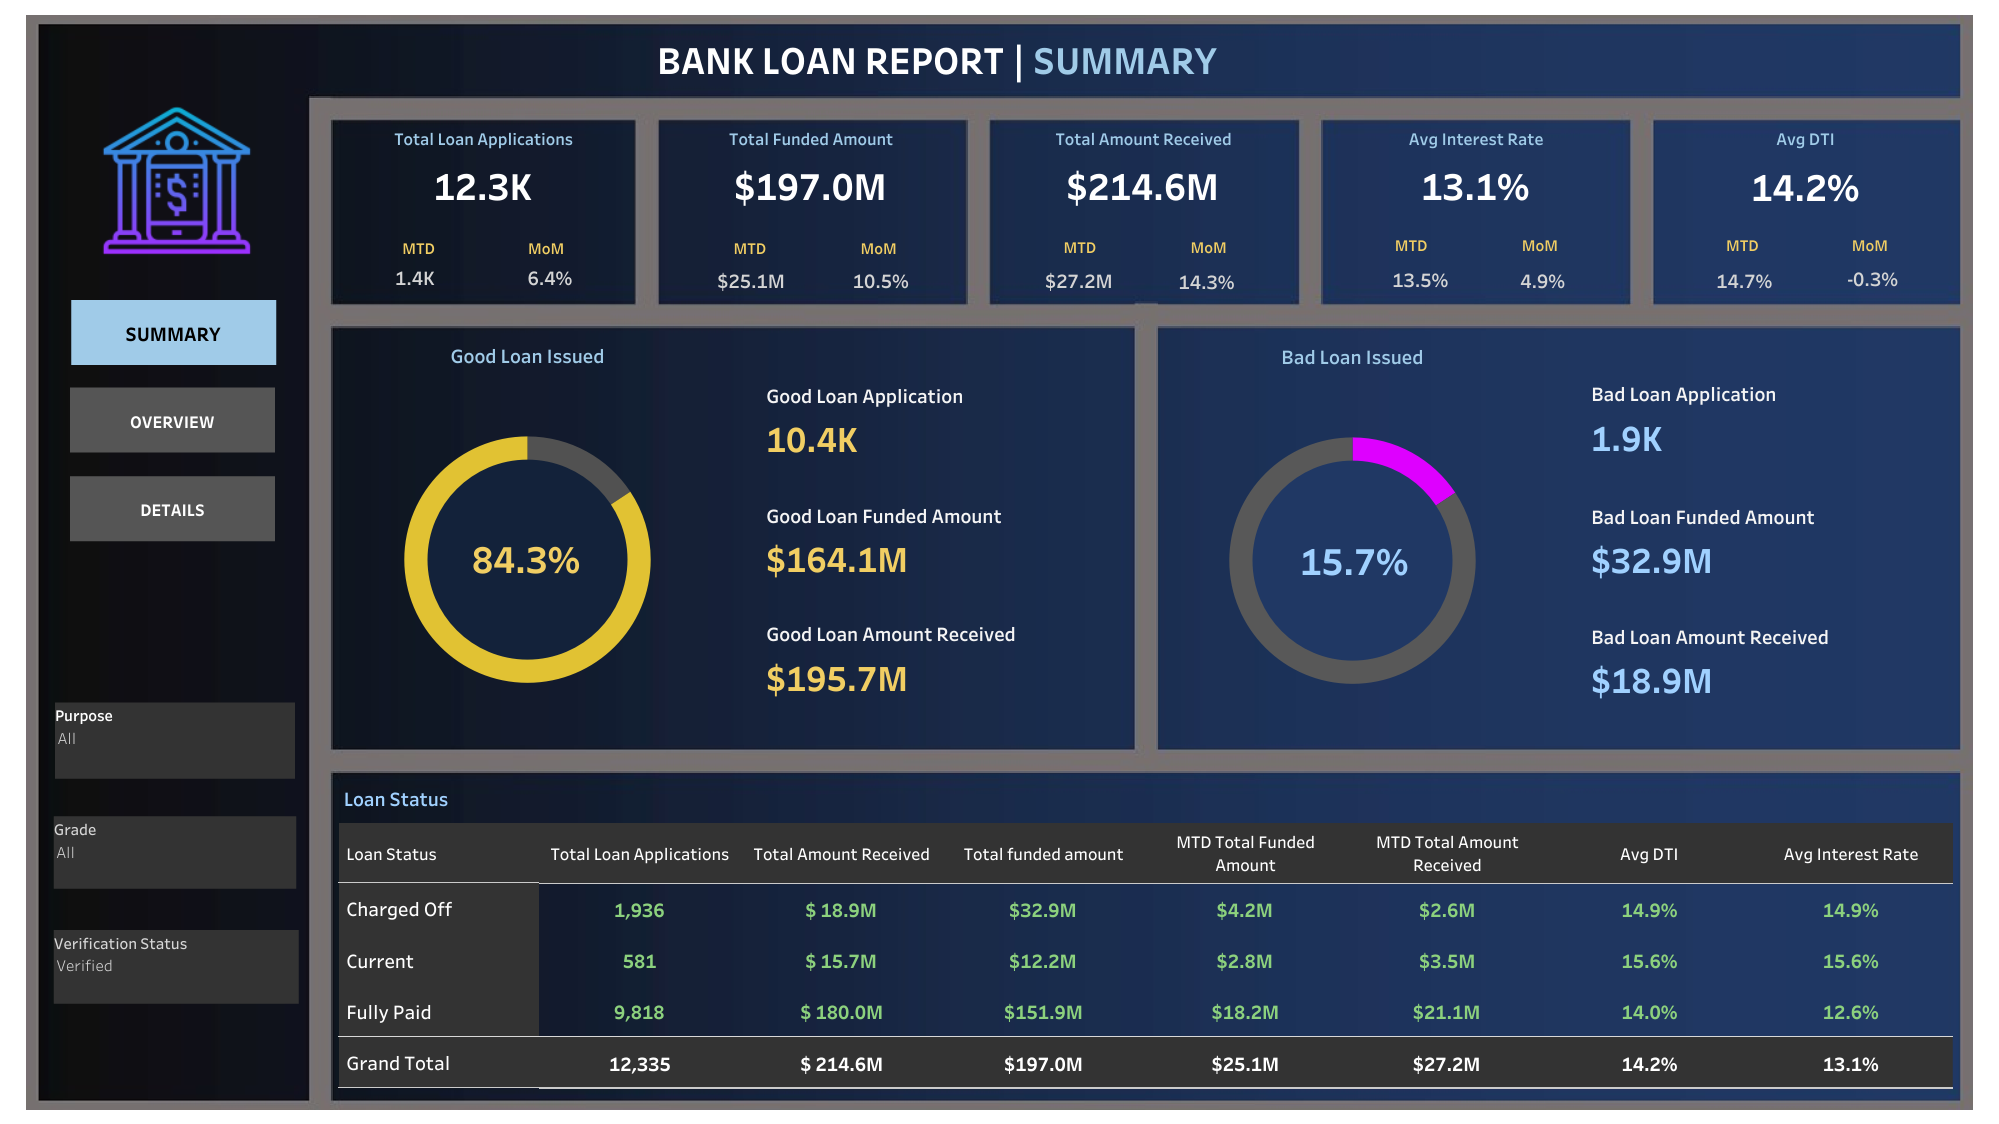

Layout of this report page (visuals, bound fields, positions):
{"tool":"tableau","page":{"name":"SUMMARY","canvas":[1600,900],"ordinal":2},"visuals":[{"type":"image","param":"D:/Tableau/Bank Loan Report/Tableau Background 1.jpg","box":[8,8,1584,884]},{"type":"text","box":[523,20,584,54]},{"type":"image","param":"D:/Tableau/Bank Loan Report/online-banking.png","box":[77,84,130,121]},{"type":"worksheet","title":"Total Loan Applications","mark":"Automatic","box":[265,95,244,73]},{"type":"worksheet","title":"Total Funded Amount","mark":"Automatic","box":[527,95,244,73]},{"type":"worksheet","title":"Total Amount Received","mark":"Automatic","box":[792,95,246,73]},{"type":"worksheet","title":"Avg Interest Rate","mark":"Automatic","box":[1057,95,248,73]},{"type":"worksheet","title":"Avg DTI","mark":"Automatic","box":[1321,95,247,74]},{"type":"text","box":[1079,181,100,30]},{"type":"text","box":[1182,181,100,30]},{"type":"text","box":[1344,181,100,30]},{"type":"text","box":[1446,181,100,30]},{"type":"text","box":[814,182,100,30]},{"type":"text","box":[917,182,100,30]},{"type":"text","box":[285,183,100,30]},{"type":"text","box":[387,183,100,30]},{"type":"text","box":[550,183,100,30]},{"type":"text","box":[653,183,100,30]},{"type":"worksheet","title":"MTD Total Loan Applications","mark":"Automatic","box":[304,205,58,33]},{"type":"worksheet","title":"MoM Loan Applications","mark":"Automatic","box":[408,205,65,33]},{"type":"worksheet","title":"MTD Avg Interest Rate","mark":"Automatic","box":[1097,205,79,37]},{"type":"worksheet","title":"MoM Avg DTI","mark":"Automatic","box":[1465,205,67,36]},{"type":"worksheet","title":"MoM Avg Interest Rate","mark":"Automatic","box":[1199,206,70,36]},{"type":"worksheet","title":"MTD Avg DTI","mark":"Automatic","box":[1360,206,72,36]},{"type":"worksheet","title":"MTD Total Funded Amount","mark":"Automatic","box":[561,207,81,33]},{"type":"worksheet","title":"MoM Total Funded Amount","mark":"Automatic","box":[667,207,75,33]},{"type":"worksheet","title":"MTD Total Amount Received","mark":"Automatic","box":[824,208,80,31]},{"type":"worksheet","title":"MoM Total Amount Received","mark":"Automatic","box":[925,209,82,31]},{"type":"dashboard-object","box":[57,240,164,52]},{"type":"worksheet","title":"Good Loan Issued","mark":"Pie","rows":["Calculation_2587880995452383233","Calculation_2587880995452383233"],"box":[272,267,300,325]},{"type":"worksheet","title":"Bad Loan Issued","mark":"Pie","rows":["Calculation_2587880995452383233","Calculation_2587880995452383233"],"box":[932,268,300,325]},{"type":"worksheet","title":"Bad Loan Application","mark":"Automatic","box":[1265,294,300,75]},{"type":"worksheet","title":"Good Loan Application","mark":"Automatic","box":[605,295,300,75]},{"type":"dashboard-object","box":[56,310,164,52]},{"type":"dashboard-object","box":[56,381,164,52]},{"type":"worksheet","title":"Good Loan Funded Amount","mark":"Automatic","box":[605,391,300,75]},{"type":"worksheet","title":"Bad Loan Funded Amount","mark":"Automatic","box":[1265,392,300,75]},{"type":"worksheet","title":"Bad Loan %","mark":"Automatic","box":[1016,413,136,71]},{"type":"worksheet","title":"Good Loan %","mark":"Automatic","box":[350,419,142,55]},{"type":"worksheet","title":"Good Loan Amount Received","mark":"Automatic","box":[605,486,300,75]},{"type":"worksheet","title":"Bad Loan Amount Received","mark":"Automatic","box":[1265,488,300,75]},{"type":"filter","title":"Good Loan Issued","param":"[federated.03xjj781i5n8ud12js5ev0tixsc8].[none:purpose:nk]","box":[44,562,192,61]},{"type":"worksheet","title":"Loan Status","mark":"Automatic","rows":["loan_status"],"box":[271,622,1292,249]},{"type":"filter","title":"Good Loan Issued","param":"[federated.03xjj781i5n8ud12js5ev0tixsc8].[none:grade:nk]","box":[43,653,194,58]},{"type":"filter","title":"Good Loan Issued","param":"[federated.03xjj781i5n8ud12js5ev0tixsc8].[none:verification_status:nk]","box":[43,744,196,59]}]}

Visuals, with their boxes in screenshot pixels (x1, y1, x2, y2), scaled from the page's 1600x900 canvas onto the 1999x1124 screenshot:
image: 10, 10, 1989, 1114
text: 653, 25, 1383, 92
image: 96, 105, 259, 256
"Total Loan Applications" worksheet: 331, 119, 636, 210
"Total Funded Amount" worksheet: 658, 119, 963, 210
"Total Amount Received" worksheet: 990, 119, 1297, 210
"Avg Interest Rate" worksheet: 1321, 119, 1630, 210
"Avg DTI" worksheet: 1650, 119, 1959, 211
text: 1348, 226, 1473, 264
text: 1477, 226, 1602, 264
text: 1679, 226, 1804, 264
text: 1807, 226, 1932, 264
text: 1017, 227, 1142, 265
text: 1146, 227, 1271, 265
text: 356, 229, 481, 266
text: 484, 229, 608, 266
text: 687, 229, 812, 266
text: 816, 229, 941, 266
"MTD Total Loan Applications" worksheet: 380, 256, 452, 297
"MoM Loan Applications" worksheet: 510, 256, 591, 297
"MTD Avg Interest Rate" worksheet: 1371, 256, 1469, 302
"MoM Avg DTI" worksheet: 1830, 256, 1914, 301
"MoM Avg Interest Rate" worksheet: 1498, 257, 1585, 302
"MTD Avg DTI" worksheet: 1699, 257, 1789, 302
"MTD Total Funded Amount" worksheet: 701, 259, 802, 300
"MoM Total Funded Amount" worksheet: 833, 259, 927, 300
"MTD Total Amount Received" worksheet: 1029, 260, 1129, 298
"MoM Total Amount Received" worksheet: 1156, 261, 1258, 300
dashboard-object: 71, 300, 276, 365
"Good Loan Issued" worksheet (Pie marks): 340, 333, 715, 739
"Bad Loan Issued" worksheet (Pie marks): 1164, 335, 1539, 741
"Bad Loan Application" worksheet: 1580, 367, 1955, 461
"Good Loan Application" worksheet: 756, 368, 1131, 462
dashboard-object: 70, 387, 275, 452
dashboard-object: 70, 476, 275, 541
"Good Loan Funded Amount" worksheet: 756, 488, 1131, 582
"Bad Loan Funded Amount" worksheet: 1580, 490, 1955, 583
"Bad Loan %" worksheet: 1269, 516, 1439, 604
"Good Loan %" worksheet: 437, 523, 615, 592
"Good Loan Amount Received" worksheet: 756, 607, 1131, 701
"Bad Loan Amount Received" worksheet: 1580, 609, 1955, 703
"Good Loan Issued" filter: 55, 702, 295, 778
"Loan Status" worksheet: 339, 777, 1953, 1088
"Good Loan Issued" filter: 54, 816, 296, 888
"Good Loan Issued" filter: 54, 929, 299, 1003
